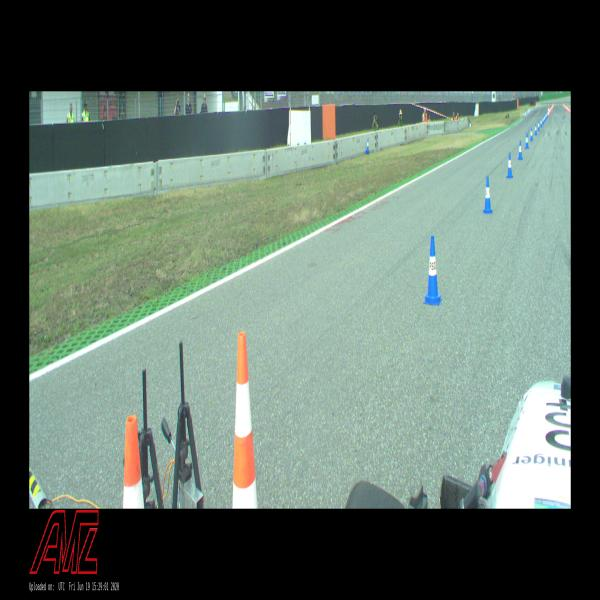blue_cone: (424, 236, 442, 305), (483, 176, 492, 214), (506, 153, 512, 178), (518, 140, 523, 160), (525, 132, 529, 148), (530, 127, 533, 142), (366, 139, 369, 153), (537, 121, 540, 131), (535, 123, 537, 135), (540, 118, 542, 128), (543, 116, 544, 125), (544, 116, 545, 122)
large_orange_cone: (232, 331, 258, 509)
